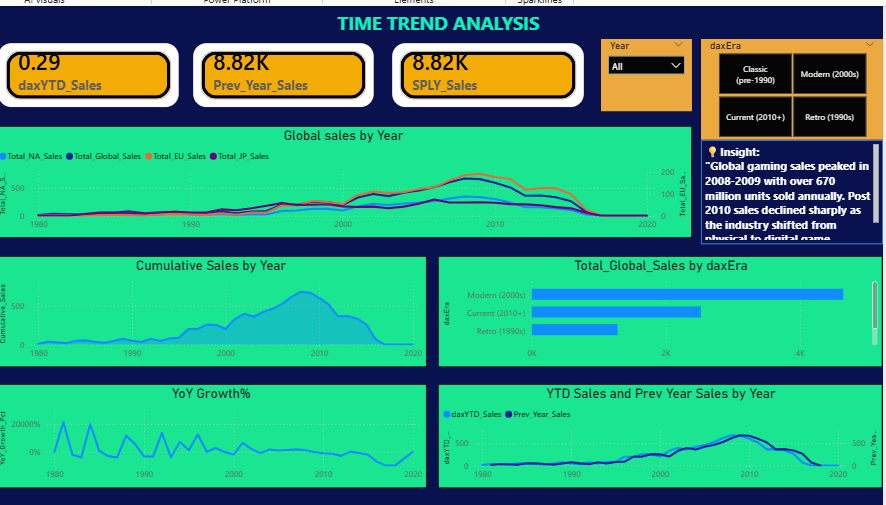

What the dashboard file says about the page in this screenshot:
{"tool":"powerbi","page":{"name":"Time Analysis","canvas":[1280,720],"ordinal":2},"visuals":[{"type":"lineChart","title":"Global sales by Year","fields":{"Category":["Dim_Calendar.Year"],"Y2":["Fact_Sales.Total_EU_Sales","Fact_Sales.Total_JP_Sales"],"Y":["Fact_Sales.Total_NA_Sales","Fact_Sales.Total_Global_Sales"]},"box":[0,173,1004.5,161.3],"z":0},{"type":"lineChart","title":"YoY Growth%","fields":{"Y":["Fact_Sales.YoY_Growth_Pct"],"Category":["Dim_Calendar.Year"]},"box":[0,544.3,623.2,149.5],"z":1000},{"type":"textbox","box":[0,0,1279.7,46.6],"z":2000},{"type":"stackedAreaChart","title":"Cumulative Sales by Year","fields":{"Category":["Dim_Calendar.Year"],"Y":["Fact_Sales.Cumulative_Sales"]},"box":[0,359.5,623.2,159.6],"z":3000},{"type":"clusteredBarChart","fields":{"Y":["Fact_Sales.Total_Global_Sales"],"Category":["Fact_Sales.daxEra"]},"box":[640,359.5,640,159.6],"z":4000},{"type":"lineChart","title":"YTD Sales and Prev Year Sales by Year","fields":{"Category":["Dim_Calendar.Year"],"Y":["Fact_Sales.daxYTD_Sales"],"Y2":["Fact_Sales.Prev_Year_Sales"]},"box":[640,544.3,640,149.5],"z":5000},{"type":"cardVisual","fields":{"Data":["Fact_Sales.Prev_Year_Sales"]},"box":[280.5,47,272.1,104.1],"z":6000},{"type":"cardVisual","fields":{"Data":["Fact_Sales.SPLY_Sales"]},"box":[567.8,47,288.9,104.1],"z":7000},{"type":"slicer","fields":{"Values":["Dim_Calendar.Year"]},"box":[873.5,47,131,104.1],"z":8000},{"type":"slicer","fields":{"Values":["Fact_Sales.daxEra"]},"box":[1018.1,47.5,262.1,145.4],"z":9000},{"type":"cardVisual","fields":{"Data":["Fact_Sales.daxYTD_Sales"]},"box":[0,47,272.1,104.1],"z":10000},{"type":"textbox","box":[1018,193,262,150],"z":11000}]}

Visuals, with their boxes in screenshot pixels (x1, y1, x2, y2):
"Global sales by Year" lineChart: x1=5 y1=127 x2=690 y2=237
"YoY Growth%" lineChart: x1=5 y1=381 x2=430 y2=483
textbox: x1=5 y1=9 x2=878 y2=41
"Cumulative Sales by Year" stackedAreaChart: x1=5 y1=255 x2=430 y2=364
clusteredBarChart - Fact_Sales.Total_Global_Sales x Fact_Sales.daxEra: x1=441 y1=255 x2=878 y2=364
"YTD Sales and Prev Year Sales by Year" lineChart: x1=441 y1=381 x2=878 y2=483
cardVisual - Fact_Sales.Prev_Year_Sales: x1=196 y1=41 x2=382 y2=112
cardVisual - Fact_Sales.SPLY_Sales: x1=392 y1=41 x2=589 y2=112
slicer - Dim_Calendar.Year: x1=601 y1=41 x2=690 y2=112
slicer - Fact_Sales.daxEra: x1=700 y1=42 x2=879 y2=141
cardVisual - Fact_Sales.daxYTD_Sales: x1=5 y1=41 x2=190 y2=112
textbox: x1=700 y1=141 x2=878 y2=243
